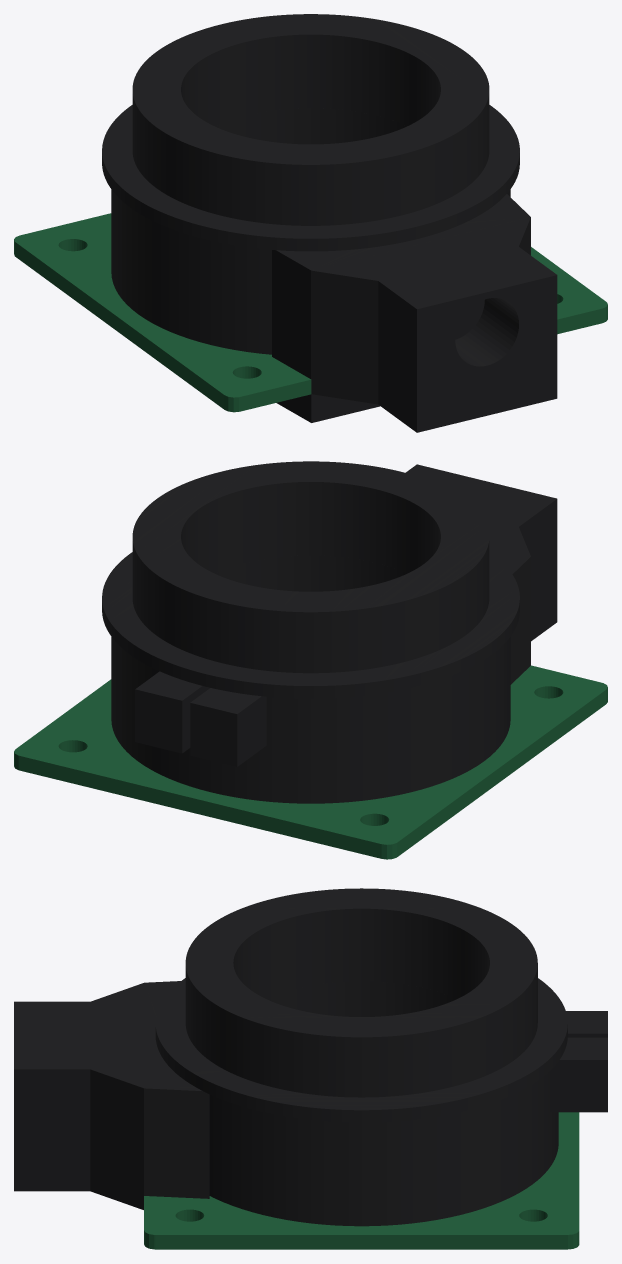
File: raspberry-pi-hq-camera.glb
3 views of the same model, one above another, from view 1: azimuth 30°, elevation 25°; view 2: azimuth 150°, elevation 25°; view 3: azimuth 270°, elevation 25° (orthographic).
Visible parts, largest first — view 1: raspberry-pi-hq-camera; view 2: raspberry-pi-hq-camera; view 3: raspberry-pi-hq-camera.
Part boxes in pixels (x1,y1,x2,y2): raspberry-pi-hq-camera: (14,14,607,432); raspberry-pi-hq-camera: (14,461,607,859); raspberry-pi-hq-camera: (14,888,607,1249).
Bounding box in the file's own units: 38 × 21.5 × 51.86.
